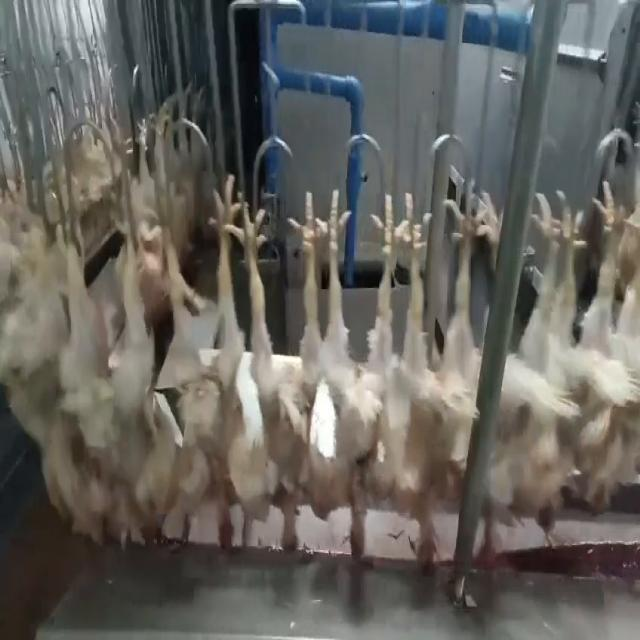chicken: (395, 174, 489, 578), (139, 170, 235, 549), (238, 186, 332, 555), (494, 189, 584, 537), (62, 197, 144, 549), (322, 185, 399, 559), (578, 181, 639, 515)
